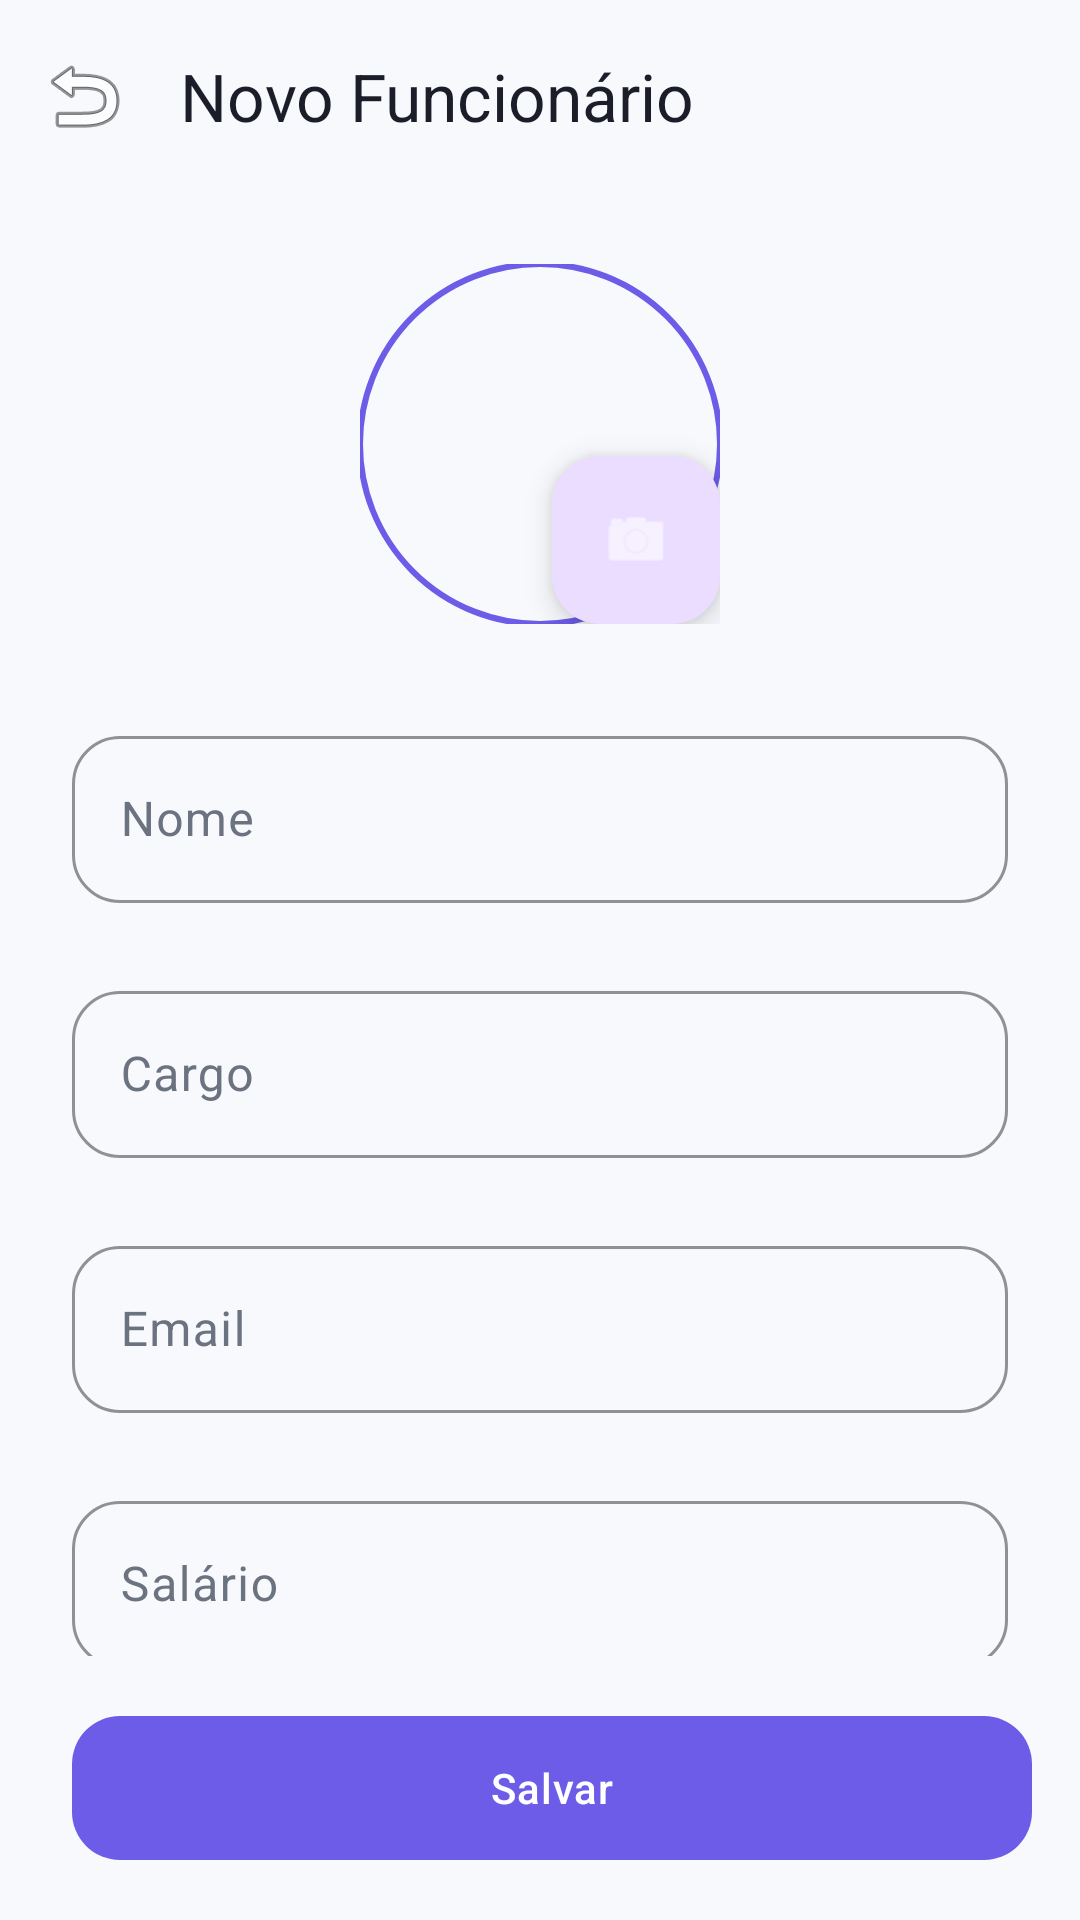

Icons on this 1080px x 1920px Android screen, each with the point to tap as point (x, y):
Trocar Foto: point (636, 540)
